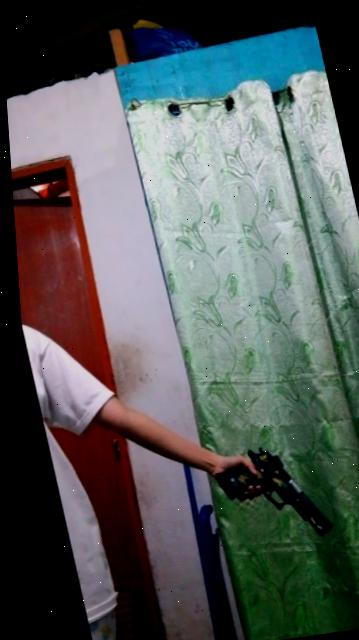pistol: (192, 432, 335, 560)
